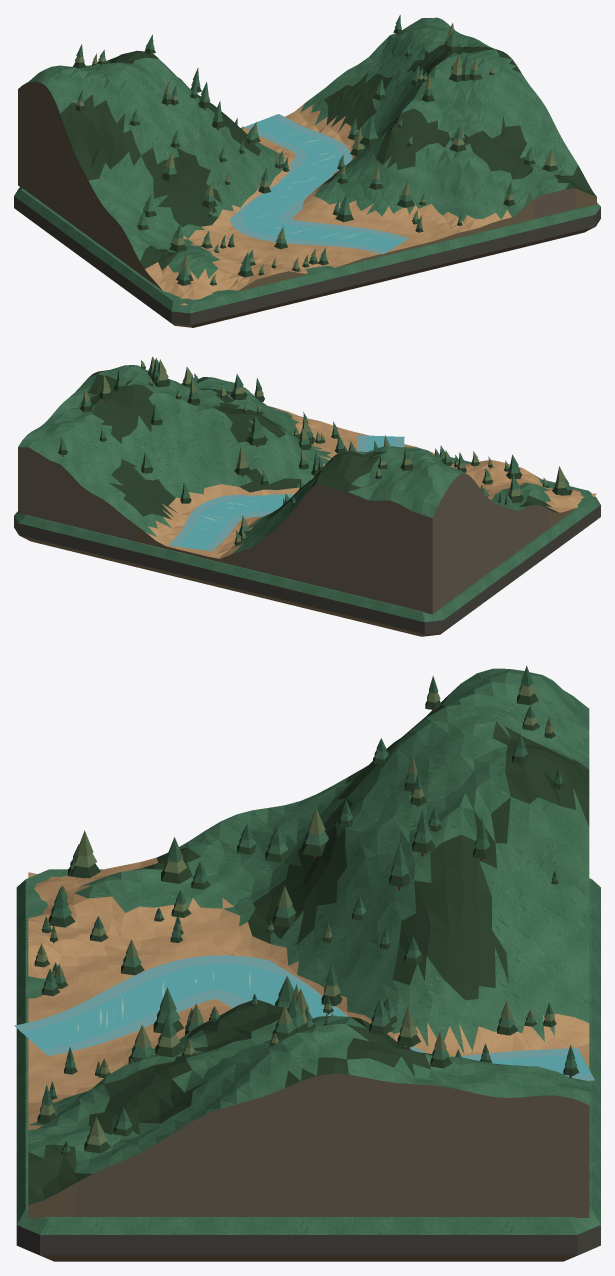
Rendered from kanas.glb.
3 renders of one model, top to bottom at view 1: azimuth 30°, elevation 25°; view 2: azimuth 150°, elevation 25°; view 3: azimuth 270°, elevation 25°, orthographic. The views are drawn at different scales.
Visible parts, largest first — view 1: 喀纳斯·月亮湾; view 2: 喀纳斯·月亮湾; view 3: 喀纳斯·月亮湾.
Part boxes in pixels (left/top/right/bottom): 喀纳斯·月亮湾: left=14, top=15, right=600, bottom=327; 喀纳斯·月亮湾: left=14, top=356, right=600, bottom=636; 喀纳斯·月亮湾: left=14, top=665, right=600, bottom=1261.
Bounding box in the file's own units: 6.15 × 2.32 × 4.27.
12 materials, 3 textured.
